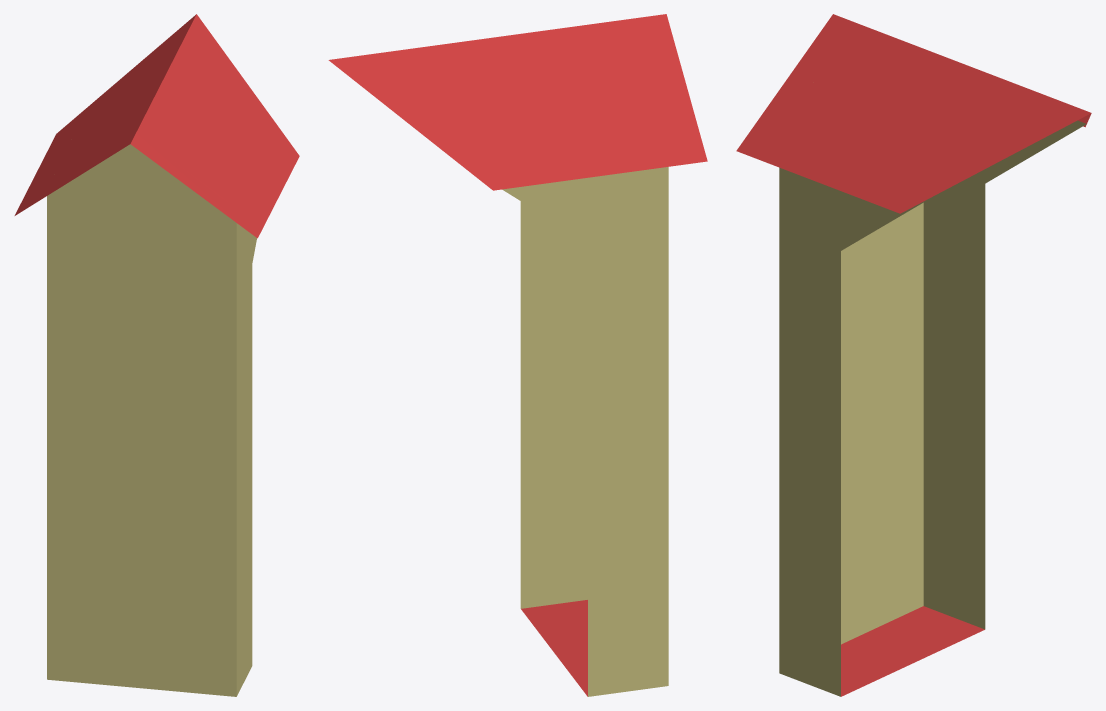
3 views of the same model, side by side, from view 1: azimuth 30°, elevation 25°; view 2: azimuth 150°, elevation 25°; view 3: azimuth 270°, elevation 25° (orthographic). The views are drawn at different scales.
Bounding box in the file's own units: 5.78 × 5.82 × 11.12.
